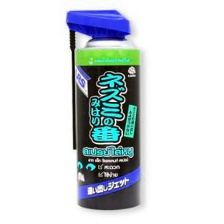aerosol_cans: (61, 4, 149, 214)
